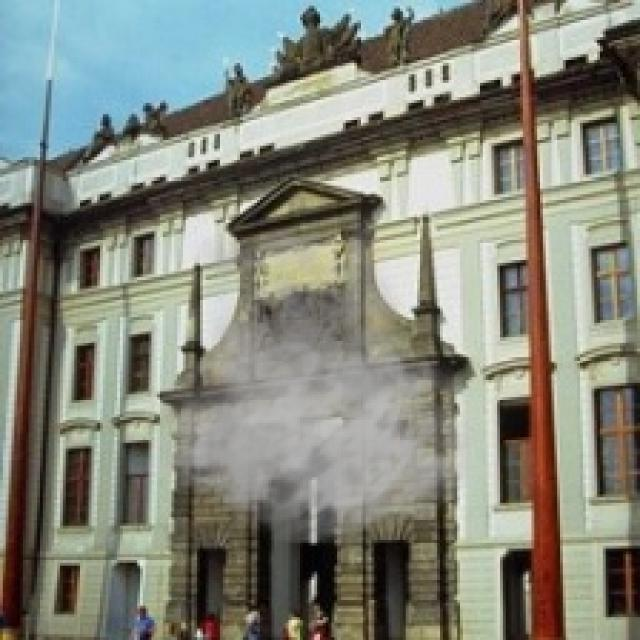smoke: (131, 200, 486, 546)
